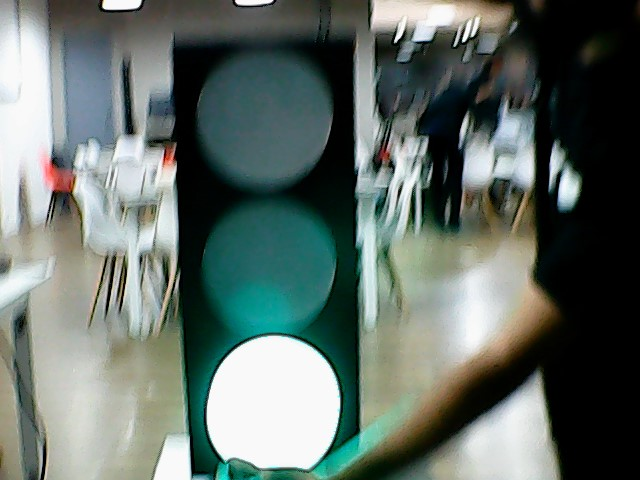verde: (158, 24, 370, 480)
